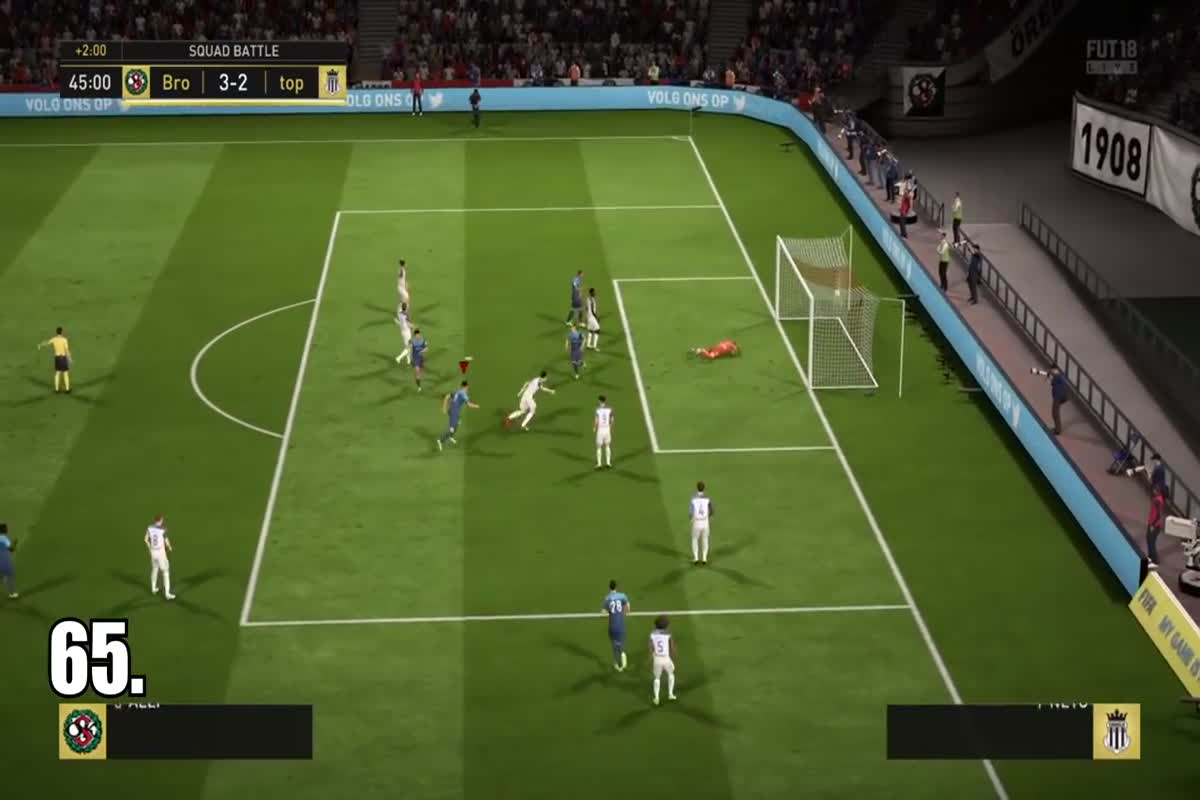ball: (829, 287, 848, 302)
